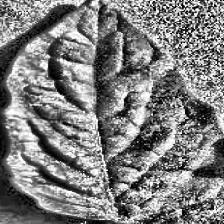spider mites: (1, 0, 224, 224)
